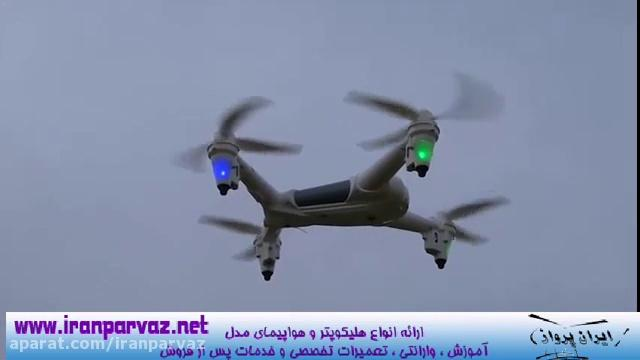drone: (164, 70, 514, 282)
